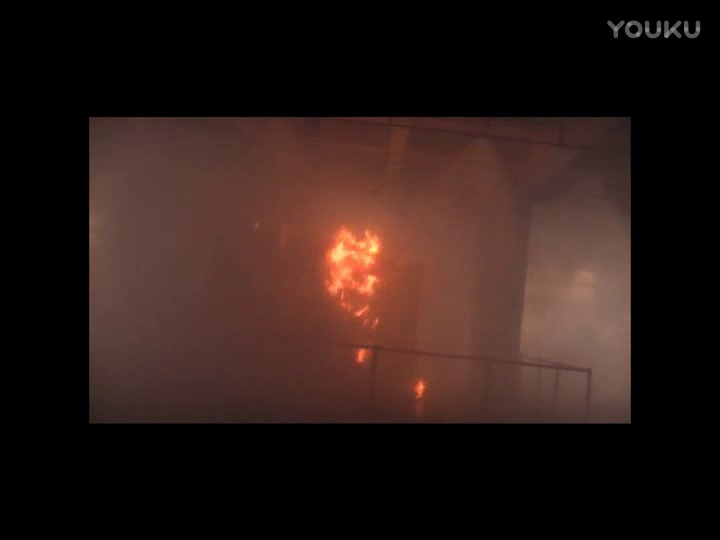fire: (324, 223, 381, 318)
